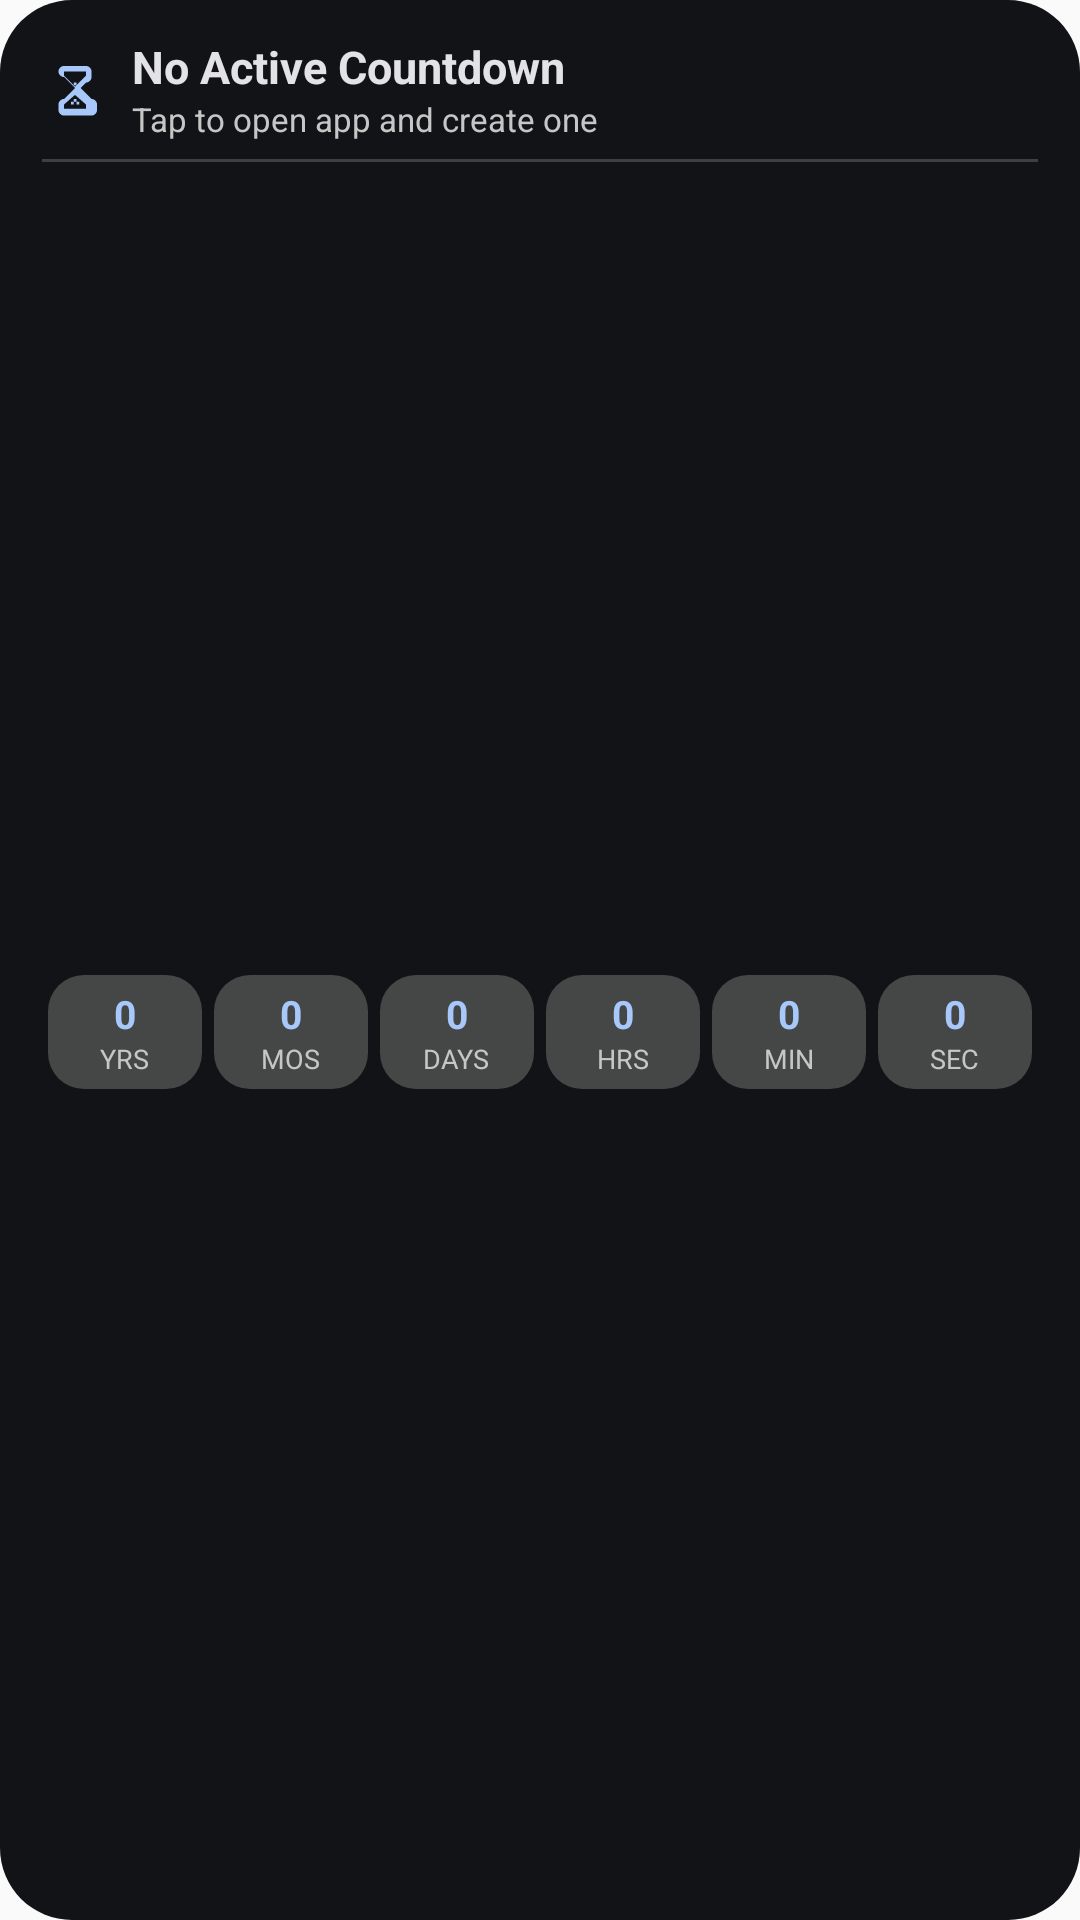

Icon bounding boxes for this 1080*1920 phone screenshot, format rect(x1, y1, x2, y2):
hourglass: rect(58, 66, 97, 116)
